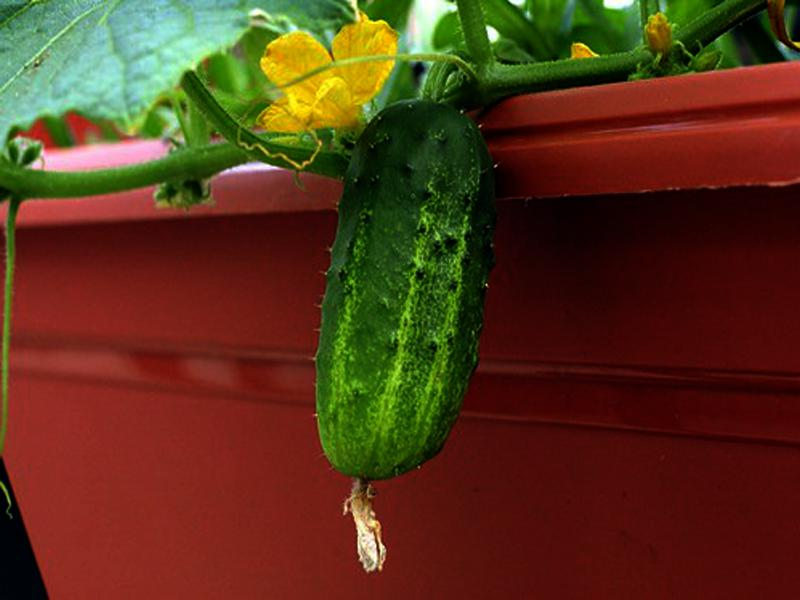Cucumber: (313, 98, 494, 575)
